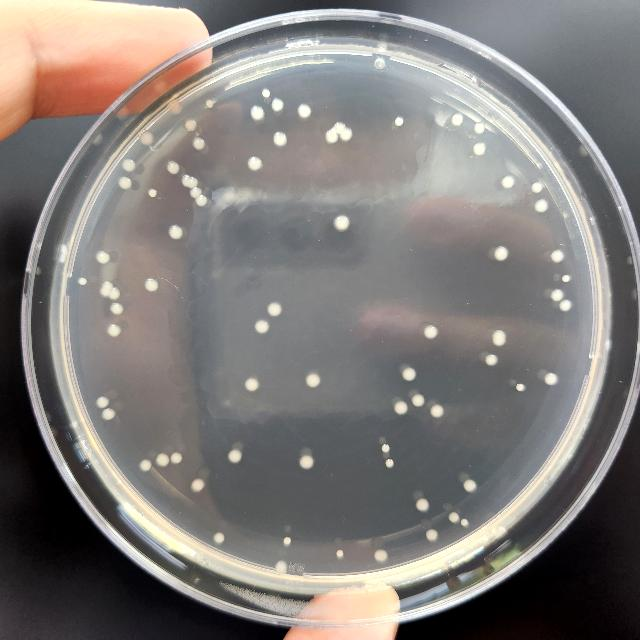colony: (334, 214, 351, 232), (492, 329, 506, 346), (140, 130, 154, 146), (298, 104, 312, 118), (271, 98, 285, 112), (274, 132, 288, 146), (248, 156, 262, 170), (535, 199, 549, 213), (472, 142, 486, 156), (494, 246, 508, 260), (550, 288, 564, 302), (424, 325, 438, 339), (402, 367, 416, 381), (544, 372, 558, 386), (430, 404, 444, 418), (394, 401, 408, 415), (307, 373, 321, 387), (245, 378, 259, 392), (268, 302, 282, 316), (228, 449, 242, 463), (300, 455, 314, 469), (107, 324, 121, 338), (145, 278, 159, 292), (96, 250, 110, 264), (169, 100, 183, 114), (416, 498, 429, 512), (255, 321, 269, 334), (334, 122, 346, 136), (340, 128, 352, 142), (326, 130, 338, 144), (252, 106, 264, 120), (474, 121, 486, 135), (452, 112, 464, 126), (550, 250, 564, 262), (374, 550, 388, 562), (170, 225, 182, 239), (192, 479, 204, 493), (96, 396, 110, 408), (102, 408, 116, 420), (110, 303, 124, 315), (118, 177, 132, 189), (122, 159, 136, 171), (193, 138, 205, 150), (185, 119, 197, 131), (502, 176, 514, 188), (559, 299, 571, 311), (486, 354, 498, 366), (412, 394, 424, 406), (464, 480, 476, 492), (195, 195, 207, 207), (168, 162, 180, 174), (275, 560, 287, 572), (157, 454, 169, 466), (140, 459, 152, 471), (213, 532, 224, 544), (374, 59, 386, 69), (532, 182, 542, 194), (426, 530, 438, 540), (190, 188, 202, 198), (188, 176, 198, 188), (172, 452, 182, 464), (110, 287, 120, 299), (448, 512, 459, 522), (384, 458, 394, 468), (148, 188, 158, 198), (102, 280, 112, 290), (182, 175, 190, 187), (395, 116, 403, 126), (262, 88, 270, 98), (100, 288, 110, 296), (206, 100, 214, 108), (562, 275, 570, 283), (516, 383, 524, 391), (382, 444, 390, 452), (283, 537, 291, 545), (79, 277, 87, 285), (484, 529, 492, 537), (462, 518, 468, 526), (336, 550, 344, 556), (331, 128, 337, 134)
